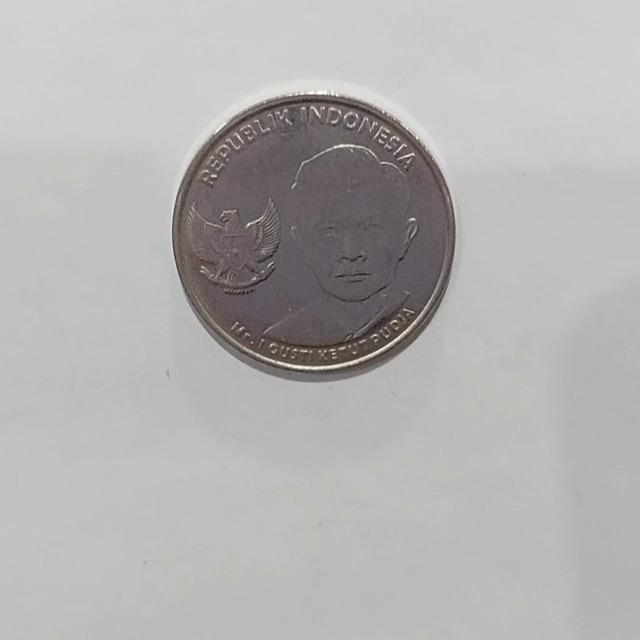Rp100: (169, 85, 458, 381)
